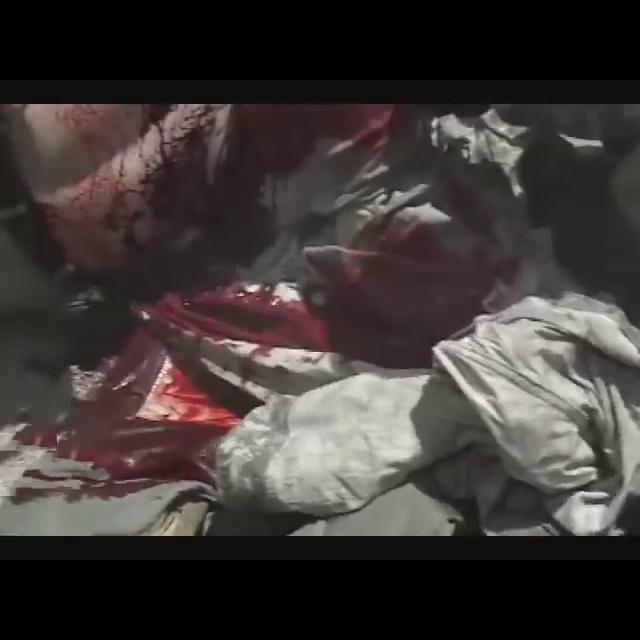blood: (17, 104, 500, 530)
